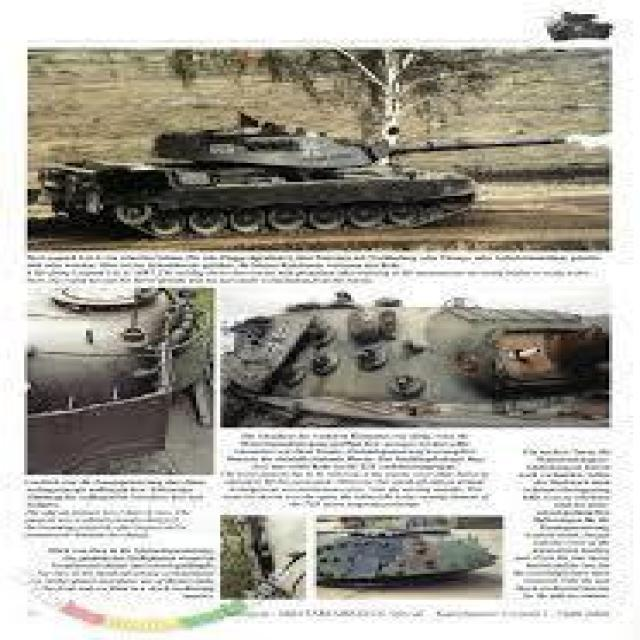MIL_MBT: (40, 106, 563, 222), (330, 516, 482, 582)
